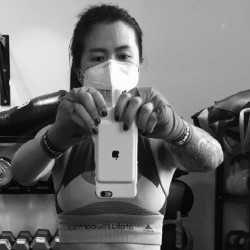mask: (70, 49, 146, 119)
